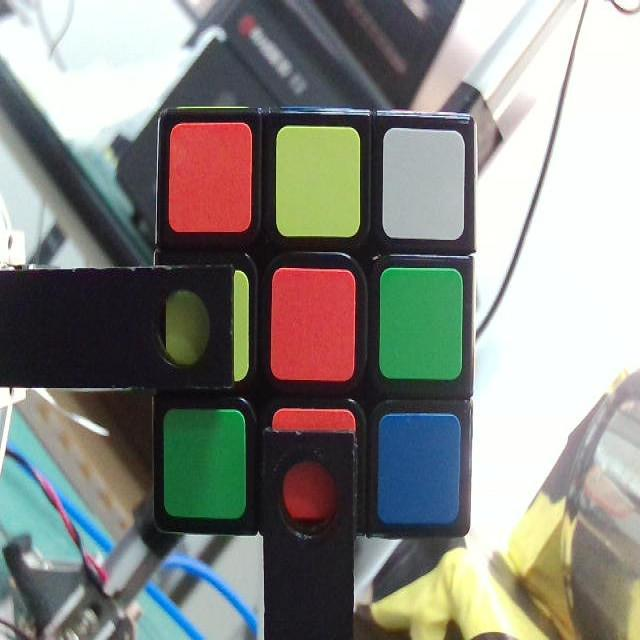b: (378, 415, 459, 522)
g: (382, 270, 460, 380), (164, 414, 244, 514)
o: (271, 267, 355, 379), (274, 412, 354, 528), (168, 120, 250, 226)
w: (383, 130, 463, 238)
y: (274, 128, 358, 237), (165, 270, 248, 378)
